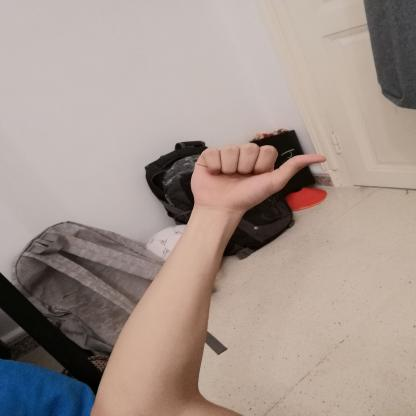DAD: (178, 135, 338, 217)
